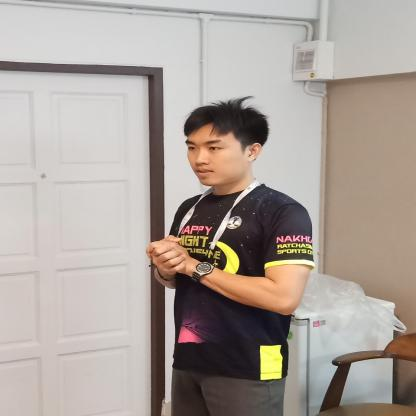Grieve: (138, 230, 273, 316)
